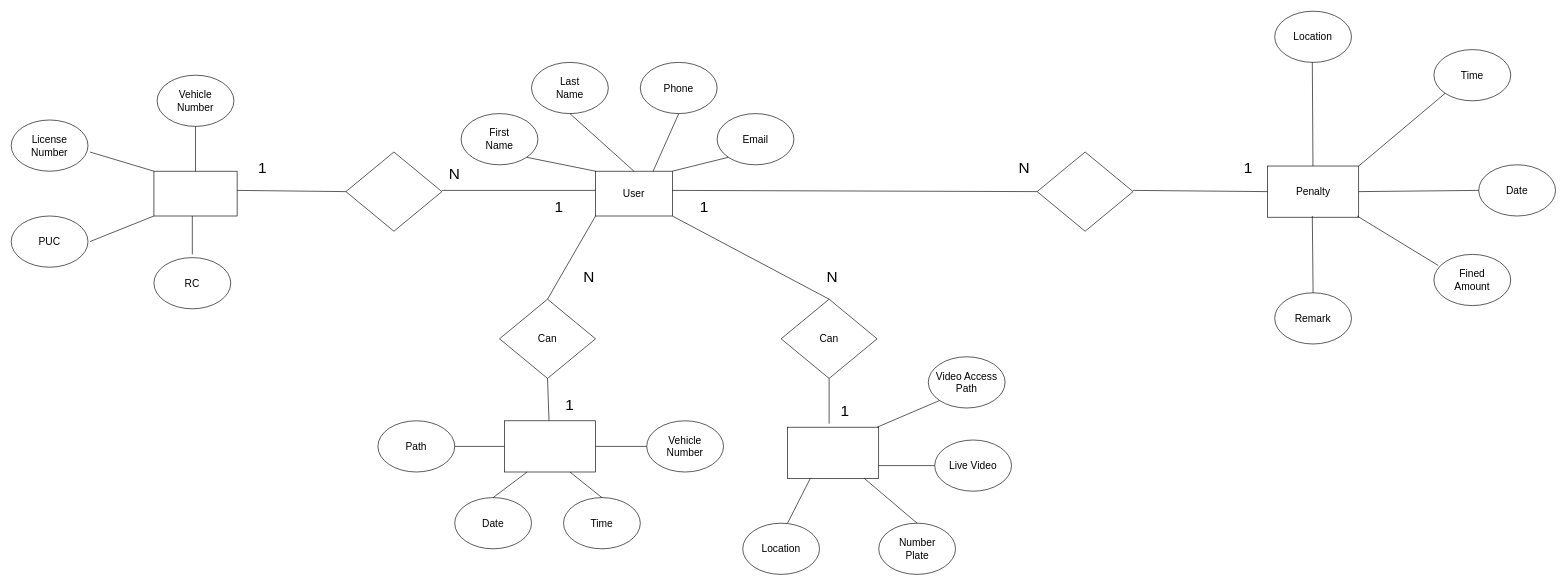
This 1567x586 diagram has some shape labels left out. The shapes that lost their labels are listed below. From the top down, each one's box as (x1, y1, x2, y2) in pixels, then its label:
(153, 171, 237, 216): Vehicle Registration
(345, 151, 442, 231): Apply For
(1036, 151, 1133, 231): Gives
(504, 420, 596, 472): Search By Photo
(787, 427, 879, 478): Search By Video
